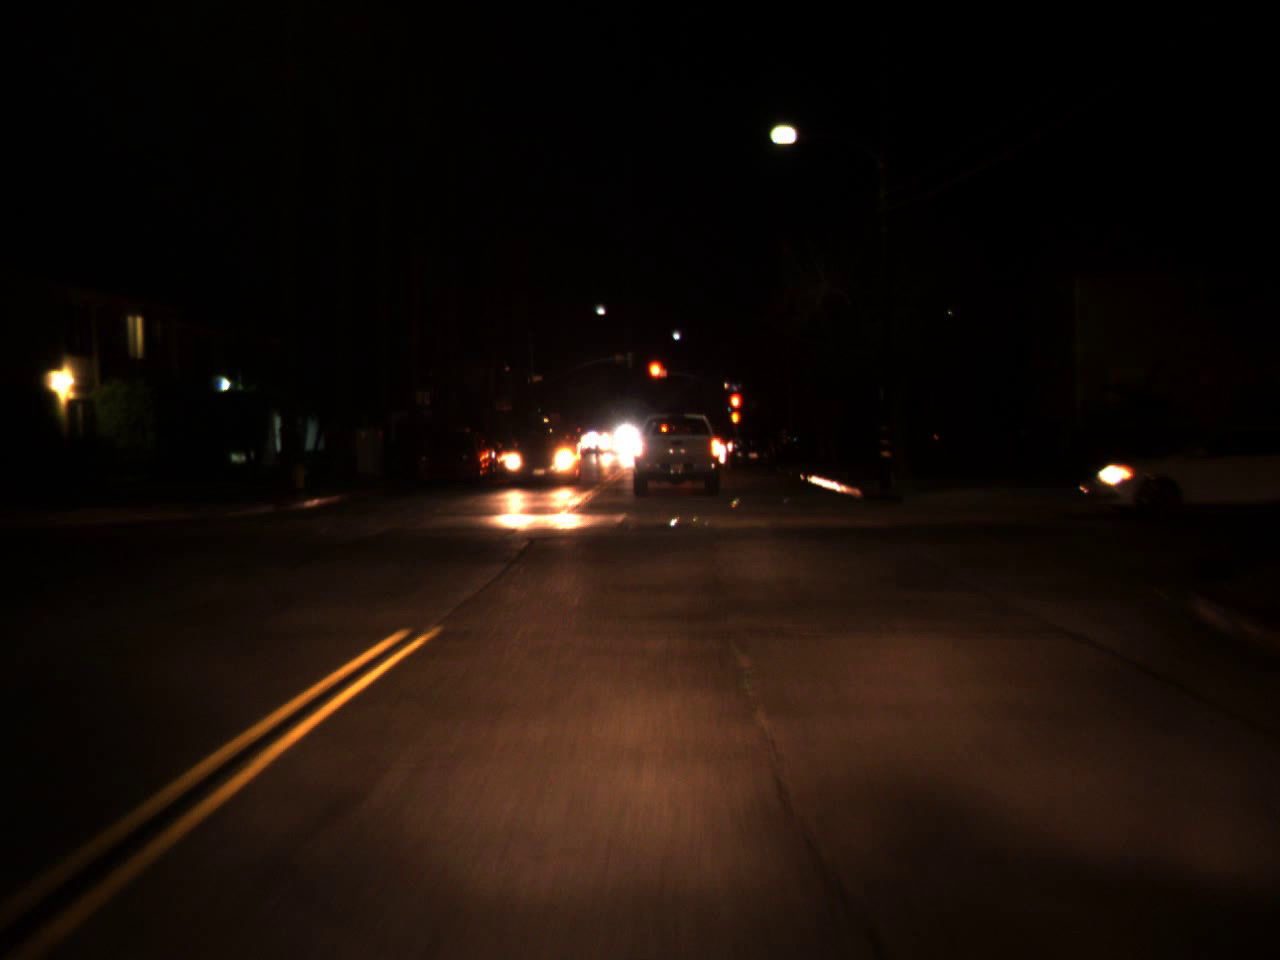stop: (646, 358, 667, 398), (727, 390, 743, 427)
